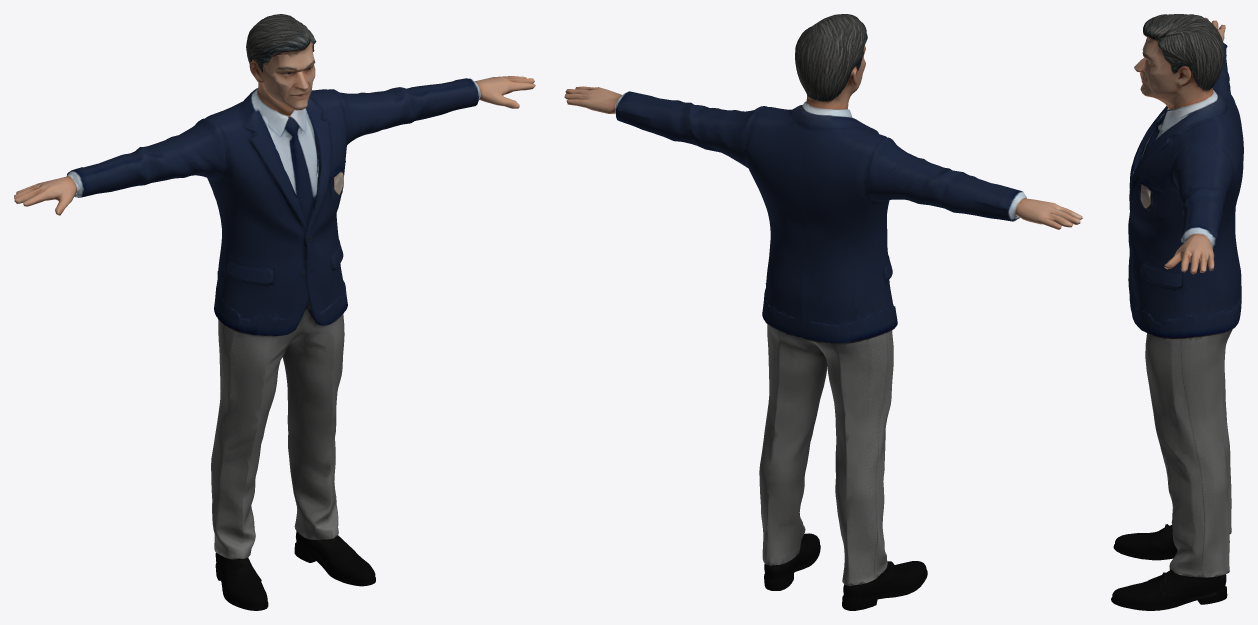
The model's file is umpire_r_upright.glb.
3 views of the same model, side by side, from view 1: azimuth 30°, elevation 25°; view 2: azimuth 150°, elevation 25°; view 3: azimuth 270°, elevation 25° (orthographic).
Visible parts, largest first — view 1: tripo_node_f3fec83d-7725-4ff1-98a6-56bb1b46aa4d; view 2: tripo_node_f3fec83d-7725-4ff1-98a6-56bb1b46aa4d; view 3: tripo_node_f3fec83d-7725-4ff1-98a6-56bb1b46aa4d.
Boxes of the visible parts, bbox=[...] form: tripo_node_f3fec83d-7725-4ff1-98a6-56bb1b46aa4d: bbox=[14, 14, 535, 610]; tripo_node_f3fec83d-7725-4ff1-98a6-56bb1b46aa4d: bbox=[564, 14, 1082, 610]; tripo_node_f3fec83d-7725-4ff1-98a6-56bb1b46aa4d: bbox=[1111, 14, 1243, 610].
Bounding box in the file's own units: 0.965 × 0.9995 × 0.2144.
1 material, 1 textured.
